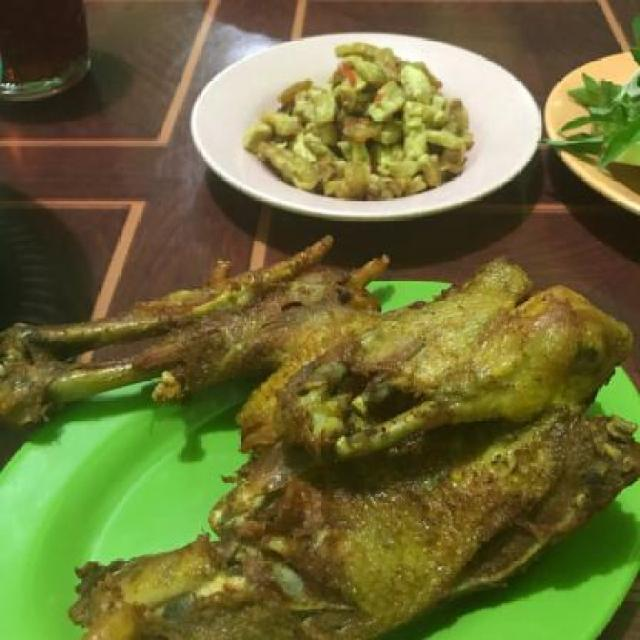Wet Waste: (0, 248, 635, 634)
